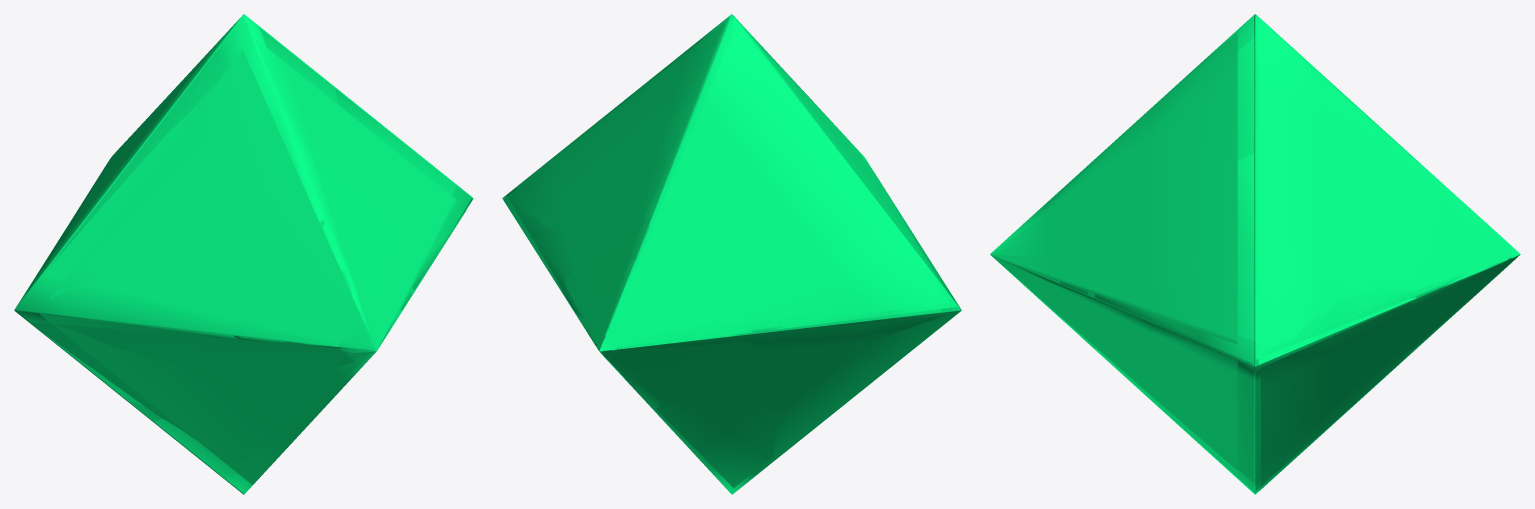
The model's file is supertoroid_solid_fallback_1768349760189.glb.
3 renders of one model, left to right at view 1: azimuth 30°, elevation 25°; view 2: azimuth 150°, elevation 25°; view 3: azimuth 270°, elevation 25°, orthographic.
Parts seen in each view (by area): view 1: MathShape; view 2: MathShape; view 3: MathShape.
Boxes of the visible parts, <box> form: MathShape: <box>14,14,473,494</box>; MathShape: <box>502,14,961,494</box>; MathShape: <box>990,14,1520,494</box>.
Bounding box in the file's own units: 99.98 × 99.96 × 99.91.
